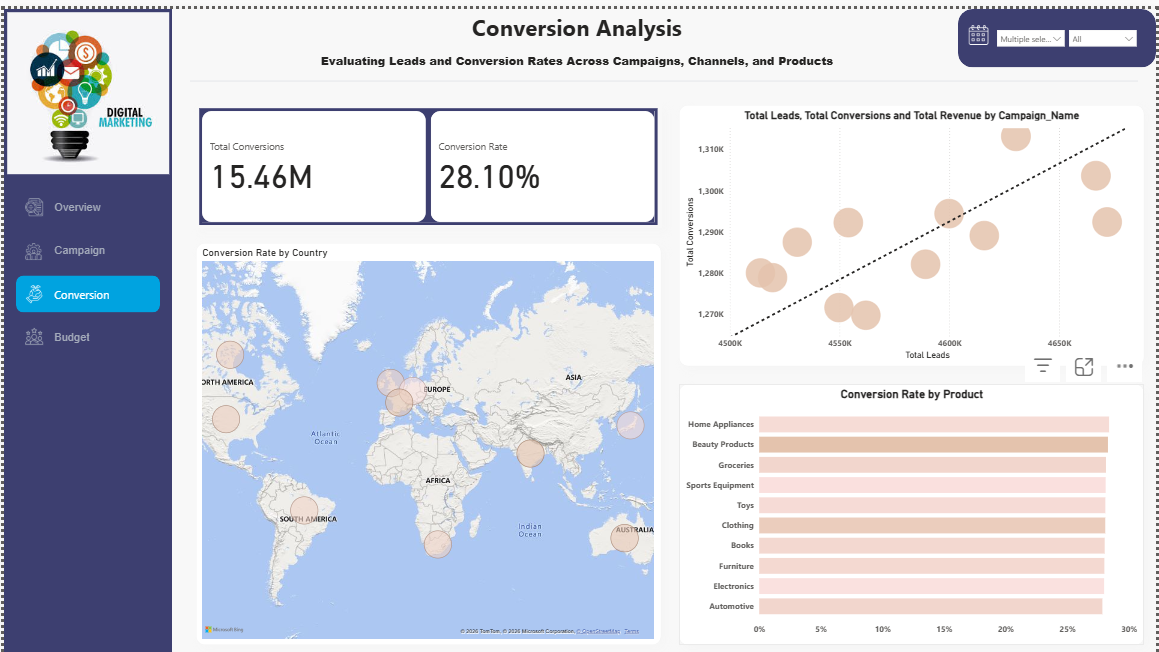

This screenshot's page, from the dashboard's own definition file:
{"tool":"powerbi","page":{"name":"Conversion","canvas":[1920,1080],"ordinal":2},"visuals":[{"type":"shape","box":[1590,0,330,97.5],"z":0,"group":"g2"},{"type":"image","box":[1601,8.1,48.4,71.2],"z":1000,"group":"g2"},{"type":"pageNavigator","box":[0,300,280,280],"z":1000,"group":"g1"},{"type":"image","box":[30,455,40,40],"z":1500,"group":"g1"},{"type":"slicer","fields":{"Values":["Date.Year"]},"box":[1645,25,132.5,65],"z":2000,"group":"g2"},{"type":"image","box":[30,525,40,40],"z":2000,"group":"g1"},{"type":"image","box":[30,385,40,40],"z":2500,"group":"g1"},{"type":"slicer","fields":{"Values":["Date.ShortMonthName"]},"box":[1765,25,132.5,65],"z":3000,"group":"g2"},{"type":"image","box":[30,310.9,40,40],"z":3000,"group":"g1"},{"type":"shape","box":[310.9,90,1580,60.2],"z":4000},{"type":"cardVisual","fields":{"Data":["_Measures.Total Conversions","_Measures.Conversion Rate"]},"box":[320,160,775.8,205],"z":15000},{"type":"map","fields":{"Category":["Marketing Campaigns.Country","Marketing Campaigns.City"],"Size":["_Measures.Conversion Rate"]},"box":[320,390,775,670],"z":16000},{"type":"scatterChart","fields":{"X":["_Measures.Total Leads"],"Y":["_Measures.Total Conversions"],"Size":["_Measures.Total Revenue (Marketing)"],"Category":["Marketing Campaigns.Campaign_Name"]},"box":[1125,160,775,435],"z":17000},{"type":"barChart","fields":{"Category":["Marketing Campaigns.Product"],"Y":["_Measures.Conversion Rate"]},"box":[1125.2,625,775.2,435],"z":18000},{"type":"textbox","box":[320,0,1270,120],"z":19000},{"type":"shape","box":[0,0,280,1080.5],"z":21000},{"type":"group","id":"g1","title":"Sidebar","box":[0,300,280,280],"z":22000},{"type":"group","id":"g2","title":"Filter","box":[1590,0,330,97.5],"z":23000},{"type":"image","box":[0,0,280,280],"z":25000}]}

Visuals, with their boxes in screenshot pixels (x1, y1, x2, y2), scaled from the page's 1920x1080 canvas onto the 1159x652 screenshot:
shape: l=960, t=0, r=1158, b=59
image: l=966, t=5, r=996, b=48
pageNavigator: l=0, t=181, r=169, b=350
image: l=18, t=275, r=42, b=299
slicer - Date.Year: l=993, t=15, r=1073, b=54
image: l=18, t=317, r=42, b=341
image: l=18, t=232, r=42, b=257
slicer - Date.ShortMonthName: l=1065, t=15, r=1145, b=54
image: l=18, t=188, r=42, b=212
shape: l=188, t=54, r=1141, b=91
cardVisual - _Measures.Total Conversions x _Measures.Conversion Rate: l=193, t=97, r=661, b=220
map - Marketing Campaigns.Country x Marketing Campaigns.City: l=193, t=235, r=661, b=640
scatterChart - _Measures.Total Leads x _Measures.Total Conversions: l=679, t=97, r=1147, b=359
barChart - Marketing Campaigns.Product x _Measures.Conversion Rate: l=679, t=377, r=1147, b=640
textbox: l=193, t=0, r=960, b=72
shape: l=0, t=0, r=169, b=651
"Sidebar" group: l=0, t=181, r=169, b=350
"Filter" group: l=960, t=0, r=1158, b=59
image: l=0, t=0, r=169, b=169
